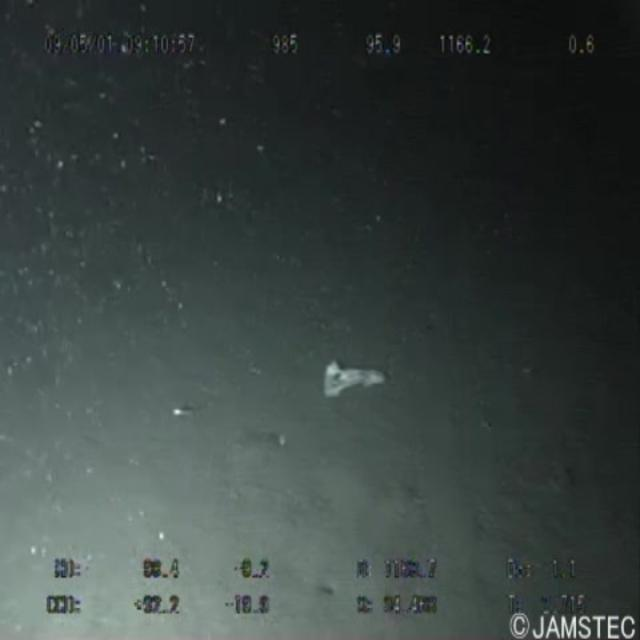Plastic: (311, 342, 402, 418)
